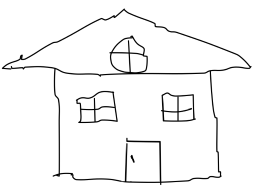big_house: (0, 0, 259, 187)
closed_window: (104, 27, 155, 79), (71, 87, 122, 126), (159, 88, 198, 130)
door: (119, 130, 169, 187)
roof: (2, 3, 256, 81)
wall: (44, 56, 225, 185)
